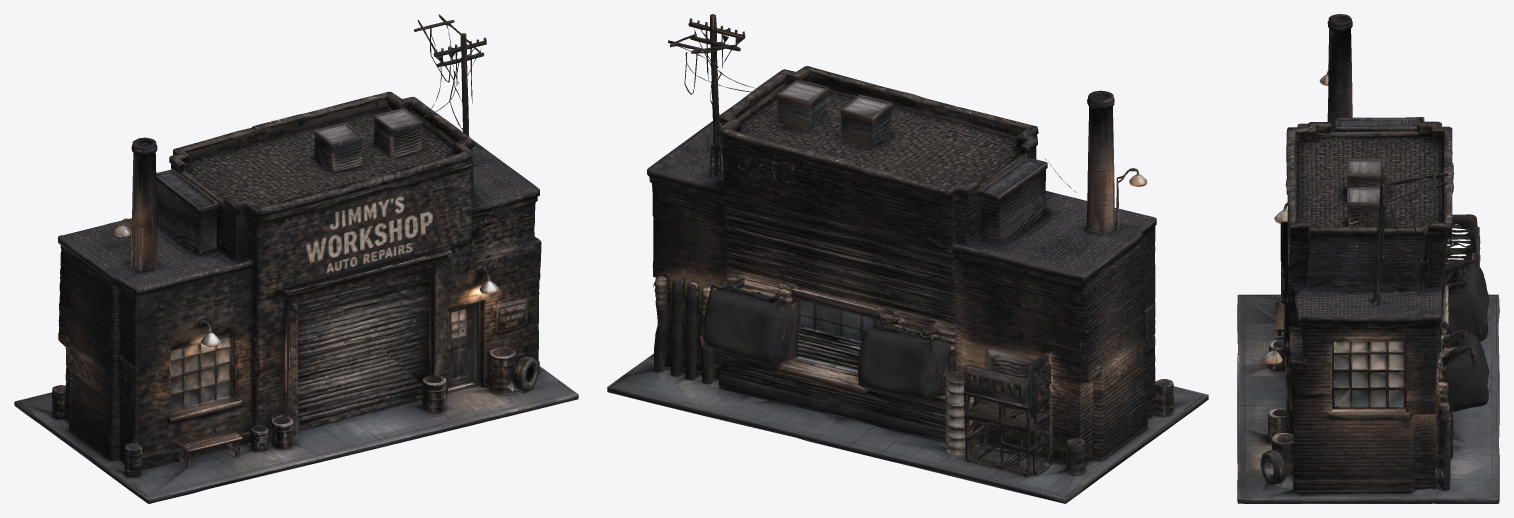
File: auto_pecas_jimmy.glb
3 views of the same model, side by side, from view 1: azimuth 30°, elevation 25°; view 2: azimuth 150°, elevation 25°; view 3: azimuth 270°, elevation 25° (orthographic). The views are drawn at different scales.
Visible parts, largest first — view 1: Mesh1.0; view 2: Mesh1.0; view 3: Mesh1.0.
Boxes of the visible parts, x1,y1,x2,y2 form: Mesh1.0: (14,14,578,503); Mesh1.0: (607,14,1208,503); Mesh1.0: (1237,14,1499,503).
Size of the model in its own units: 1.9 by 1.35 by 1.03.
Materials: 1 (1 with a texture image).
